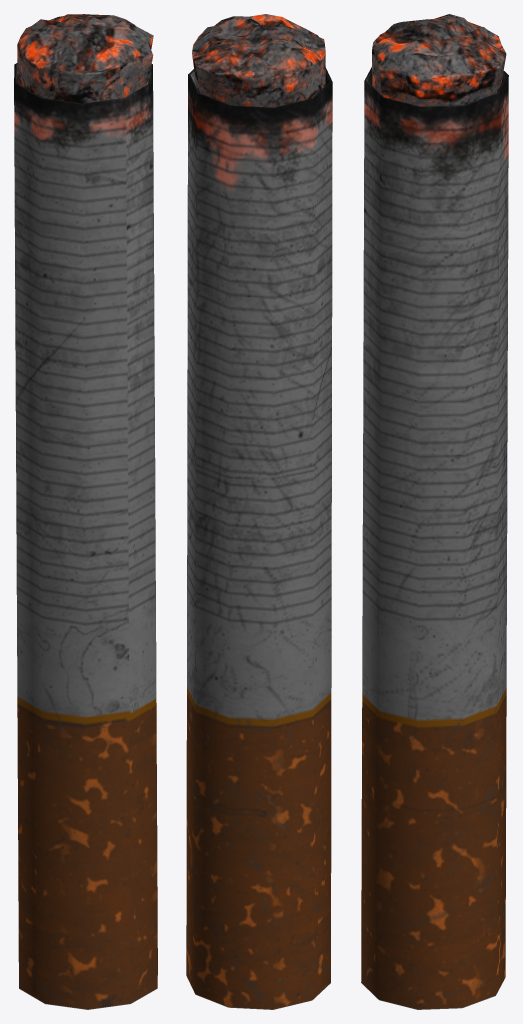
File: Cigarette.glb
The picture shows the model from 3 angles, left to right: view 1: azimuth 30°, elevation 25°; view 2: azimuth 150°, elevation 25°; view 3: azimuth 270°, elevation 25°; orthographic projection.
Parts seen in each view (by area): view 1: Object_2; view 2: Object_2; view 3: Object_2.
Part boxes in pixels (x1,y1,x2,y2): Object_2: [14, 14, 157, 1009]; Object_2: [186, 14, 332, 1009]; Object_2: [361, 14, 508, 1009].
Size of the model in its own units: 0.0115 by 0.0827 by 0.0116.
Materials: 1 (1 with a texture image).
